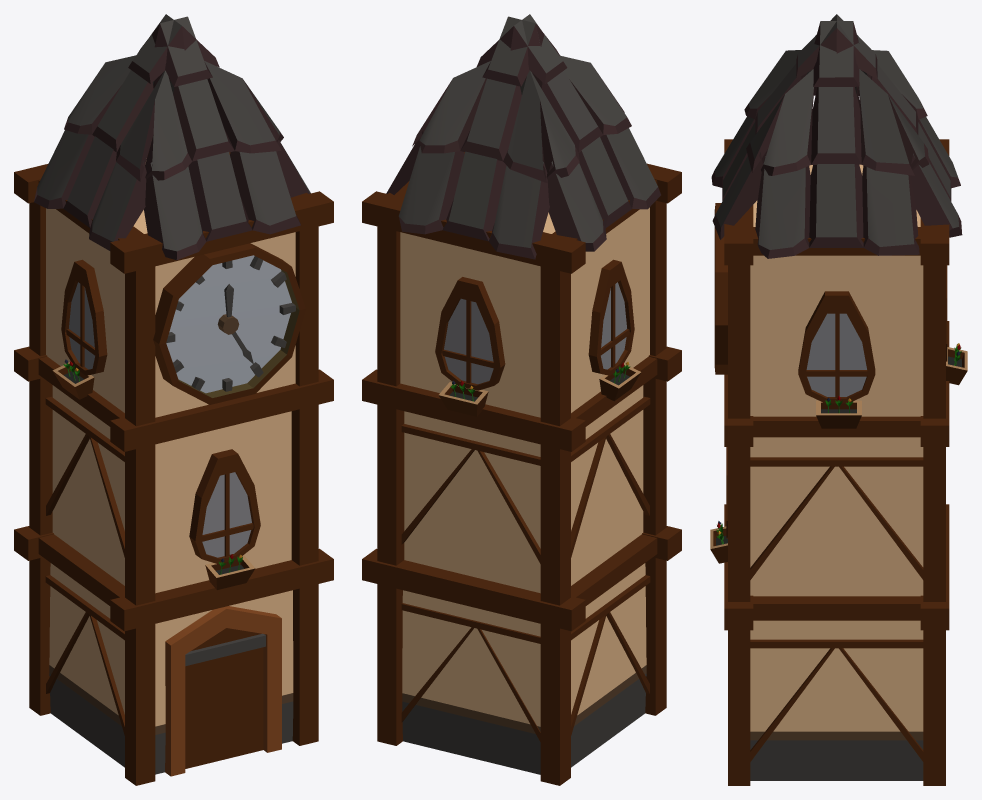
Rendered from SM_ClockTower_T1.fbx.
3 renders of one model, left to right at view 1: azimuth 30°, elevation 25°; view 2: azimuth 150°, elevation 25°; view 3: azimuth 270°, elevation 25°, orthographic. The views are drawn at different scales.
Parts seen in each view (by area): view 1: SM_ClockTower_T1; view 2: SM_ClockTower_T1; view 3: SM_ClockTower_T1.
Part boxes in pixels (<box>): SM_ClockTower_T1: <box>14,14,333,785</box>; SM_ClockTower_T1: <box>362,14,681,785</box>; SM_ClockTower_T1: <box>710,14,967,785</box>.
Bounding box in the file's own units: 70.14 × 216 × 70.14.
